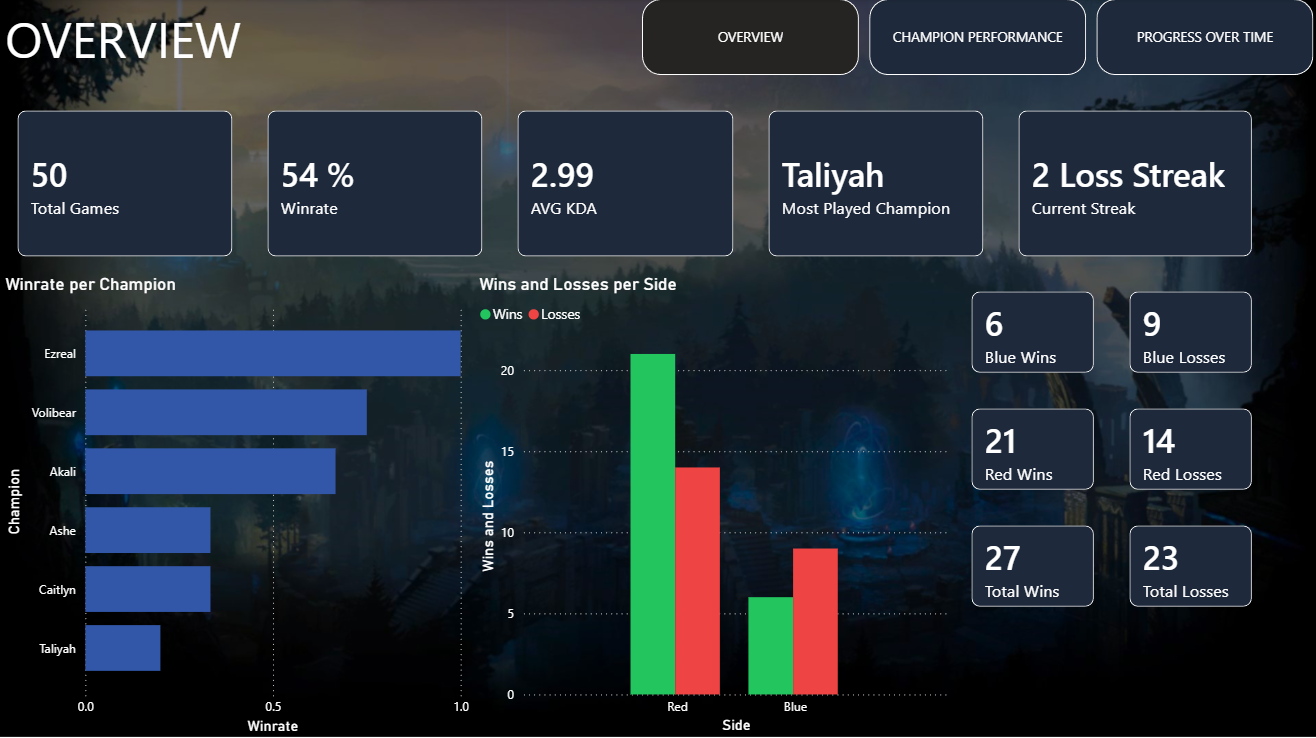

This screenshot's page, from the dashboard's own definition file:
{"tool":"powerbi","page":{"name":"OVERVIEW","canvas":[1280,720],"ordinal":0},"visuals":[{"type":"cardVisual","fields":{"Data":["Sum(analytics personal_overview.total_games)"]},"box":[0,91.4,243.2,176],"z":0},{"type":"cardVisual","fields":{"Data":["Sum(analytics personal_overview.win_rate)"]},"box":[243.2,91.4,243.2,176],"z":1000},{"type":"cardVisual","fields":{"Data":["Sum(analytics personal_overview.avg_kda)"]},"box":[486.3,91.4,244.1,176],"z":2000},{"type":"cardVisual","fields":{"Data":["Min(analytics personal_overview.most_played_champion)"]},"box":[730.5,91.4,243.2,176],"z":3000},{"type":"cardVisual","fields":{"Data":["analytics personal_match_history.Current Streak"]},"box":[973.6,91.4,261.6,176],"z":4000},{"type":"barChart","title":"Winrate per Champion","fields":{"Category":["analytics personal_match_history.champion_name"],"Y":["analytics personal_match_history.Win Rate"]},"box":[0,267.5,461,452.3],"z":5000},{"type":"clusteredColumnChart","title":"Wins and Losses per Side","fields":{"Category":["analytics personal_match_history.side"],"Y":["analytics personal_match_history.Total Wins","analytics personal_match_history.Total Losses"]},"box":[461,267.5,466.9,452.3],"z":6000},{"type":"cardVisual","fields":{"Data":["analytics personal_match_history.Blue Wins"]},"box":[927.9,267.5,153.7,113.8],"z":7000},{"type":"cardVisual","fields":{"Data":["analytics personal_match_history.Blue Losses"]},"box":[1081.6,267.5,153.7,113.8],"z":8000},{"type":"cardVisual","fields":{"Data":["analytics personal_match_history.Red Wins"]},"box":[927.9,381.3,153.7,113.8],"z":9000},{"type":"cardVisual","fields":{"Data":["analytics personal_match_history.Red Losses"]},"box":[1081.6,381.3,153.7,113.8],"z":10000},{"type":"cardVisual","fields":{"Data":["analytics personal_match_history.Total Wins"]},"box":[927.9,495.1,153.7,113.8],"z":11000},{"type":"cardVisual","fields":{"Data":["analytics personal_match_history.Total Losses"]},"box":[1081.6,495.1,153.7,113.8],"z":12000},{"type":"textbox","box":[0,0,299.6,91.4],"z":13000},{"type":"pageNavigator","box":[624.4,0,655.6,74.9],"z":14000}]}

Visuals, with their boxes in screenshot pixels (x1, y1, x2, y2), scaled from the page's 1280x720 canvas onto the 1316x738 screenshot:
cardVisual - Sum(analytics personal_overview.total_games): x1=0, y1=94, x2=250, y2=274
cardVisual - Sum(analytics personal_overview.win_rate): x1=250, y1=94, x2=500, y2=274
cardVisual - Sum(analytics personal_overview.avg_kda): x1=500, y1=94, x2=751, y2=274
cardVisual - Min(analytics personal_overview.most_played_champion): x1=751, y1=94, x2=1001, y2=274
cardVisual - analytics personal_match_history.Current Streak: x1=1001, y1=94, x2=1270, y2=274
"Winrate per Champion" barChart: x1=0, y1=274, x2=474, y2=737
"Wins and Losses per Side" clusteredColumnChart: x1=474, y1=274, x2=954, y2=737
cardVisual - analytics personal_match_history.Blue Wins: x1=954, y1=274, x2=1112, y2=391
cardVisual - analytics personal_match_history.Blue Losses: x1=1112, y1=274, x2=1270, y2=391
cardVisual - analytics personal_match_history.Red Wins: x1=954, y1=391, x2=1112, y2=507
cardVisual - analytics personal_match_history.Red Losses: x1=1112, y1=391, x2=1270, y2=507
cardVisual - analytics personal_match_history.Total Wins: x1=954, y1=507, x2=1112, y2=624
cardVisual - analytics personal_match_history.Total Losses: x1=1112, y1=507, x2=1270, y2=624
textbox: x1=0, y1=0, x2=308, y2=94
pageNavigator: x1=642, y1=0, x2=1315, y2=77
